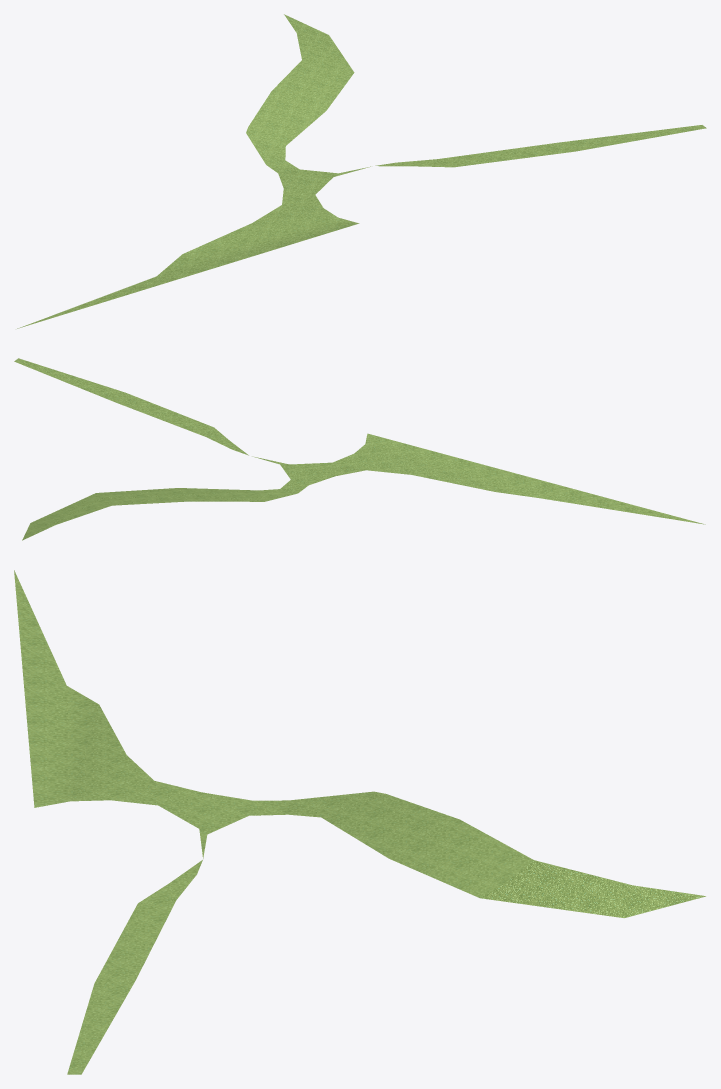
Rendered from kd_stage_135c43_4_141_bounded_piece_1.glb.
3 views of the same model, one above another, from view 1: azimuth 30°, elevation 25°; view 2: azimuth 150°, elevation 25°; view 3: azimuth 270°, elevation 25° (orthographic). The views are drawn at different scales.
Parts seen in each view (by area): view 1: kd_stage_135c43_4_141_bounded_piece_1; view 2: kd_stage_135c43_4_141_bounded_piece_1; view 3: kd_stage_135c43_4_141_bounded_piece_1.
Boxes of the visible parts, x1=… form: kd_stage_135c43_4_141_bounded_piece_1: x1=17, y1=14, x2=706, y2=328; kd_stage_135c43_4_141_bounded_piece_1: x1=14, y1=358, x2=705, y2=540; kd_stage_135c43_4_141_bounded_piece_1: x1=14, y1=570, x2=705, y2=1074.
Bounding box in the file's own units: 8.18 × 0.3653 × 4.53.
1 material, 1 textured.
